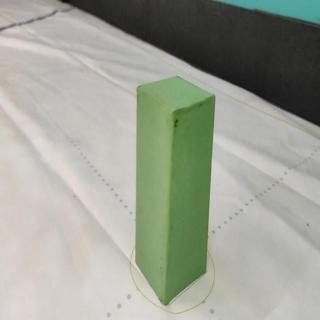greenbox: (135, 73, 217, 308)
